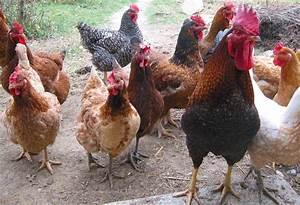hen: (173, 3, 261, 204), (73, 62, 148, 189), (4, 65, 66, 178)
